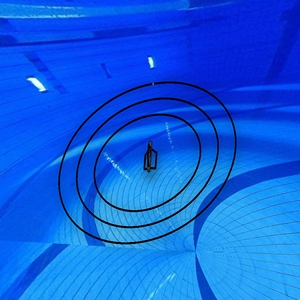circle: (56, 76, 240, 246)
submarine: (139, 138, 162, 175)
